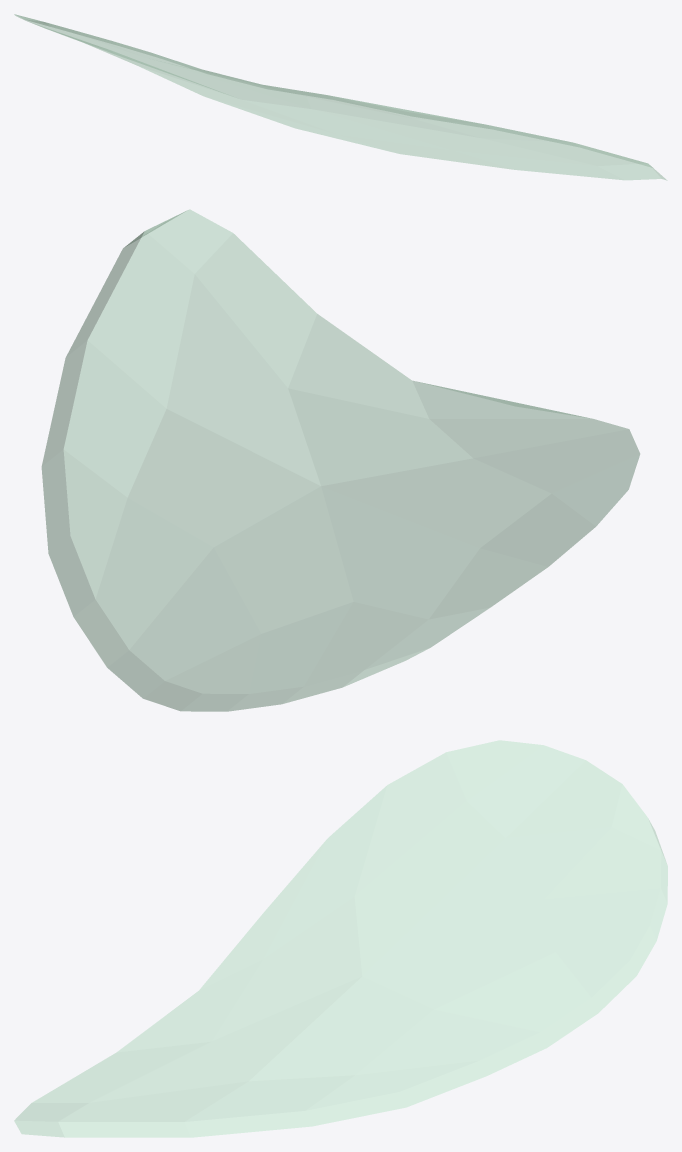
File: WingL.fbx
The picture shows the model from 3 angles, top to bottom: view 1: azimuth 30°, elevation 25°; view 2: azimuth 150°, elevation 25°; view 3: azimuth 270°, elevation 25°; orthographic projection. The views are drawn at different scales.
Parts seen in each view (by area): view 1: Wing6; view 2: Wing6; view 3: Wing6.
Part boxes in pixels (<box>): Wing6: <box>14,14,667,180</box>; Wing6: <box>41,209,639,711</box>; Wing6: <box>14,740,667,1137</box>.
Size of the model in its own units: 8.08 by 2.5 by 8.65.
